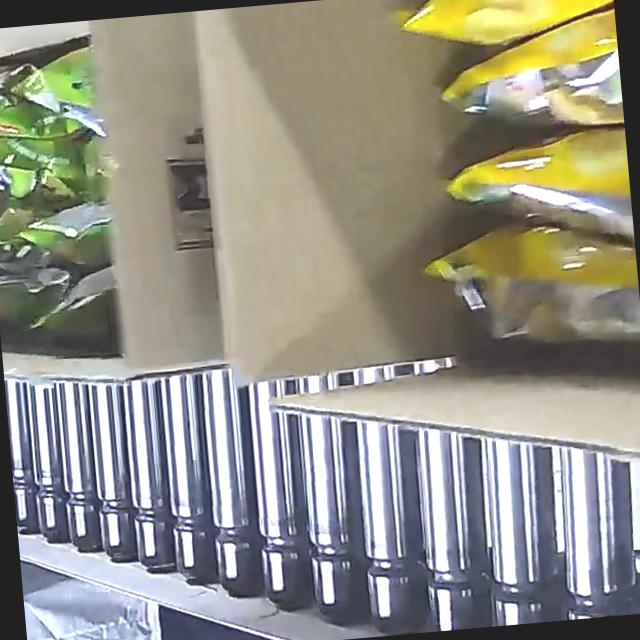yogurt: (0, 23, 118, 332)
